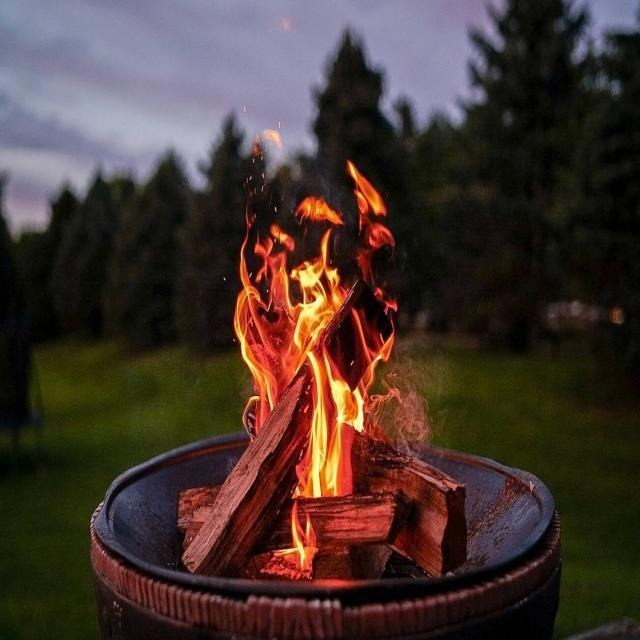Fire: (224, 146, 428, 580)
